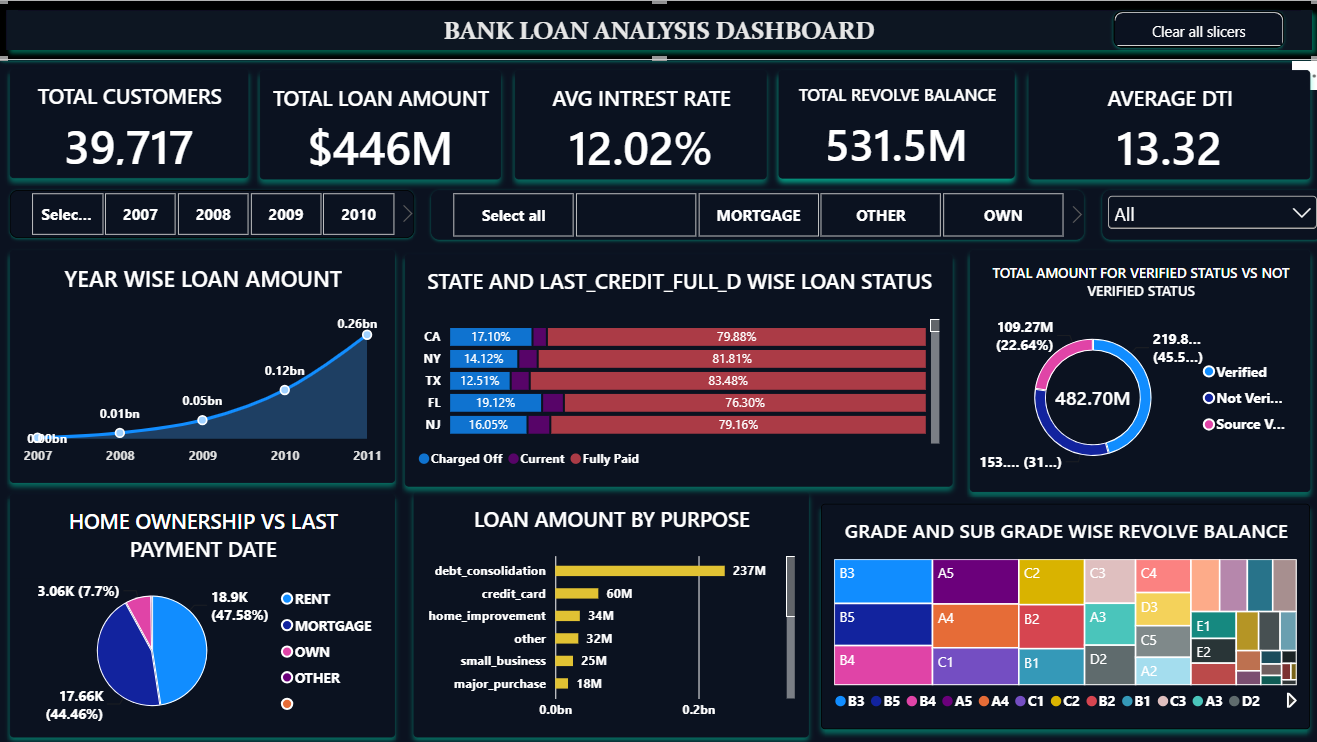

This screenshot's page, from the dashboard's own definition file:
{"tool":"powerbi","page":{"name":"DASHBOARD","canvas":[1280,720],"ordinal":0},"visuals":[{"type":"shape","box":[0,0,1280.6,58.5],"z":0},{"type":"card","title":"TOTAL CUSTOMERS","fields":{"Values":["Finance_1.Total Customers"]},"box":[13.3,66.4,230.2,105.8],"z":9000},{"type":"card","title":"AVERAGE DTI","fields":{"Values":["Finance_1.Avg DTI"]},"box":[996.5,67.4,272.1,105.8],"z":10000},{"type":"card","title":"TOTAL LOAN AMOUNT","fields":{"Values":["Finance_1.Total Loan Amount"]},"box":[254.7,67.4,232.6,105.8],"z":11000},{"type":"card","title":"AVG INTREST RATE","fields":{"Values":["Finance_1.Avg Intrest Rate"]},"box":[501.2,67.4,243,105.8],"z":12000},{"type":"card","title":"TOTAL REVOLVE BALANCE","fields":{"Values":["Finance_2.Total Revolve Balance"]},"box":[755.8,67.4,227.9,104.7],"z":13000},{"type":"slicer","fields":{"Values":["Finance_1.issue_d.Variation.Date Hierarchy.Year"]},"box":[12.8,183.7,390.7,46.5],"z":14000},{"type":"slicer","fields":{"Values":["Finance_1.home_ownership"]},"box":[419.8,183.7,630.2,47.7],"z":15000},{"type":"slicer","fields":{"Values":["Finance_1.grade"]},"box":[1067.4,183.7,212.8,47.7],"z":16000},{"type":"lineChart","title":" YEAR WISE LOAN AMOUNT","fields":{"Category":["Finance_1.issue_d.Variation.Date Hierarchy.Year"],"Y":["Sum(Finance_1.loan_amnt)"]},"box":[12.8,240.7,372.1,224.4],"z":17000},{"type":"pieChart","title":"HOME OWNERSHIP VS LAST PAYMENT DATE","fields":{"Category":["Finance_1.home_ownership"],"Y":["CountNonNull(Finance_1.id)"]},"box":[12.8,476.7,372.1,234.9],"z":18000},{"type":"treemap","title":"GRADE AND SUB GRADE WISE REVOLVE BALANCE","fields":{"Group":["Finance_1.grade","Finance_1.sub_grade"],"Values":["Sum(Finance_2.revol_bal)"]},"box":[796.5,486,472.1,217.4],"z":19000},{"type":"clusteredBarChart","title":"LOAN AMOUNT BY PURPOSE","fields":{"Category":["Finance_1.purpose"],"Y":["Sum(Finance_1.loan_amnt)"]},"box":[403.5,474.4,381.4,237.2],"z":20000},{"type":"hundredPercentStackedBarChart","title":"STATE AND LAST_CREDIT_FULL_D WISE LOAN STATUS","fields":{"Category":["Finance_1.addr_state"],"Series":["Finance_1.loan_status"],"Y":["Finance_1.Total Loan Amount"]},"box":[394.5,244.9,529.1,224.4],"z":21000},{"type":"donutChart","title":"TOTAL AMOUNT FOR VERIFIED STATUS VS NOT VERIFIED STATUS","fields":{"Category":["Finance_1.verification_status"],"Y":["Sum(Finance_2.total_pymnt)"]},"box":[939.5,240.7,329.1,233.7],"z":22000},{"type":"actionButton","box":[1078.6,10.9,165.1,34.9],"z":23001}]}

Visuals, with their boxes in screenshot pixels (x1, y1, x2, y2), scaled from the page's 1280x720 canvas onto the 1317x742 screenshot:
shape: box=[0, 0, 1316, 60]
"TOTAL CUSTOMERS" card: box=[14, 68, 251, 177]
"AVERAGE DTI" card: box=[1025, 69, 1305, 178]
"TOTAL LOAN AMOUNT" card: box=[262, 69, 501, 178]
"AVG INTREST RATE" card: box=[516, 69, 766, 178]
"TOTAL REVOLVE BALANCE" card: box=[778, 69, 1012, 177]
slicer - Finance_1.issue_d.Variation.Date Hierarchy.Year: box=[13, 189, 415, 237]
slicer - Finance_1.home_ownership: box=[432, 189, 1080, 238]
slicer - Finance_1.grade: box=[1098, 189, 1316, 238]
" YEAR WISE LOAN AMOUNT" lineChart: box=[13, 248, 396, 479]
"HOME OWNERSHIP VS LAST PAYMENT DATE" pieChart: box=[13, 491, 396, 733]
"GRADE AND SUB GRADE WISE REVOLVE BALANCE" treemap: box=[820, 501, 1305, 725]
"LOAN AMOUNT BY PURPOSE" clusteredBarChart: box=[415, 489, 808, 733]
"STATE AND LAST_CREDIT_FULL_D WISE LOAN STATUS" hundredPercentStackedBarChart: box=[406, 252, 950, 484]
"TOTAL AMOUNT FOR VERIFIED STATUS VS NOT VERIFIED STATUS" donutChart: box=[967, 248, 1305, 489]
actionButton: box=[1110, 11, 1280, 47]
